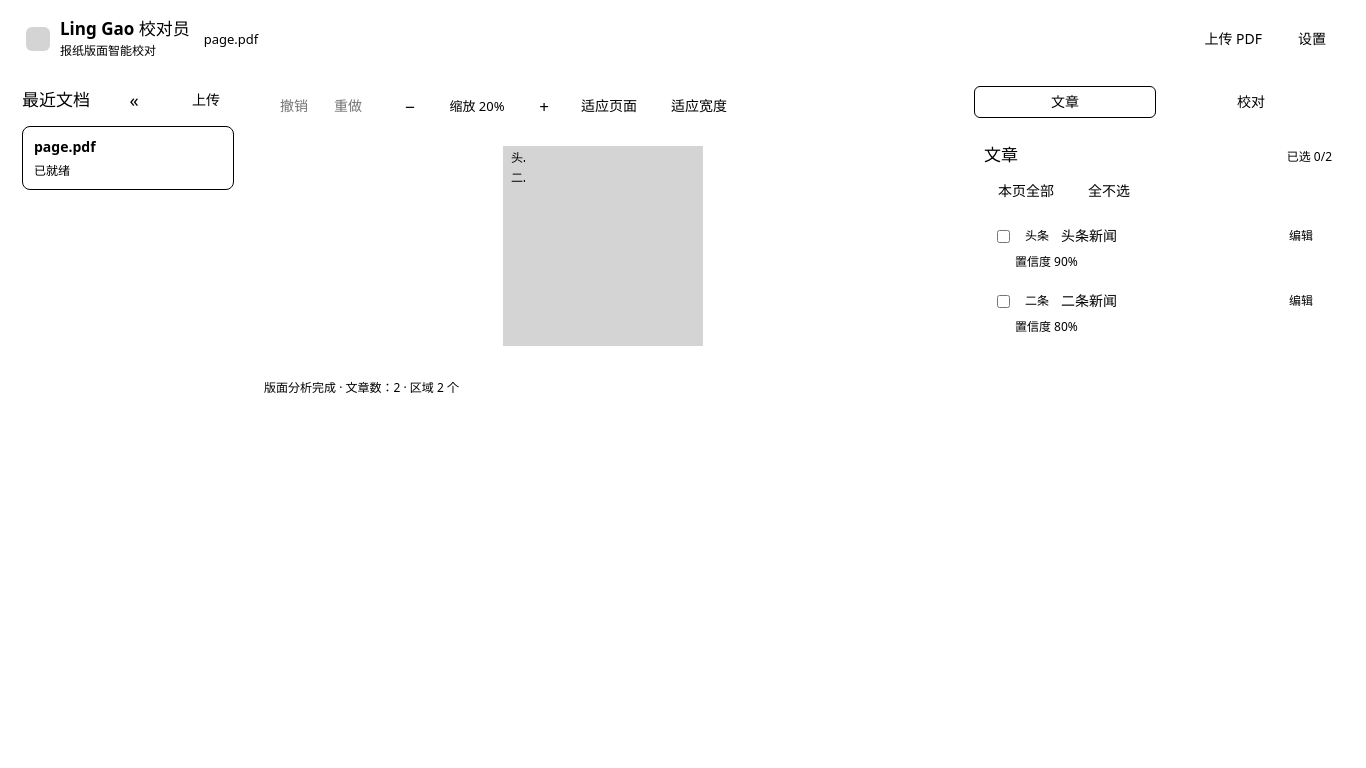
Test: App proofreading integration › polls job progress and renders the report when the job finishes
Earlier steps of the test are not shown.
Later steps or results of the test are not shown.
Step 1. Click the checkbox labelled "头条 头条新闻" → (1004, 236), box [997,230,1010,242]
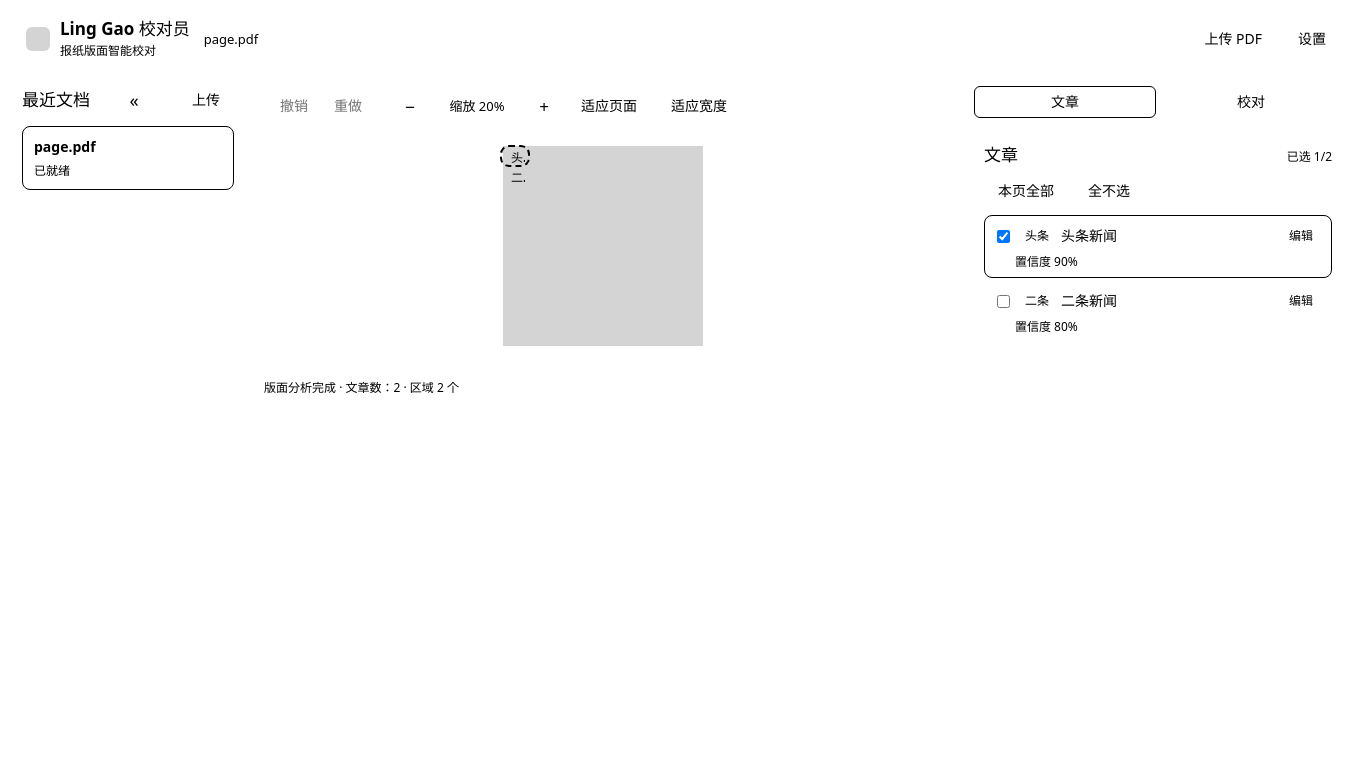
Step 2. Click the tab "校对" → (1251, 102), box [1160,86,1342,118]
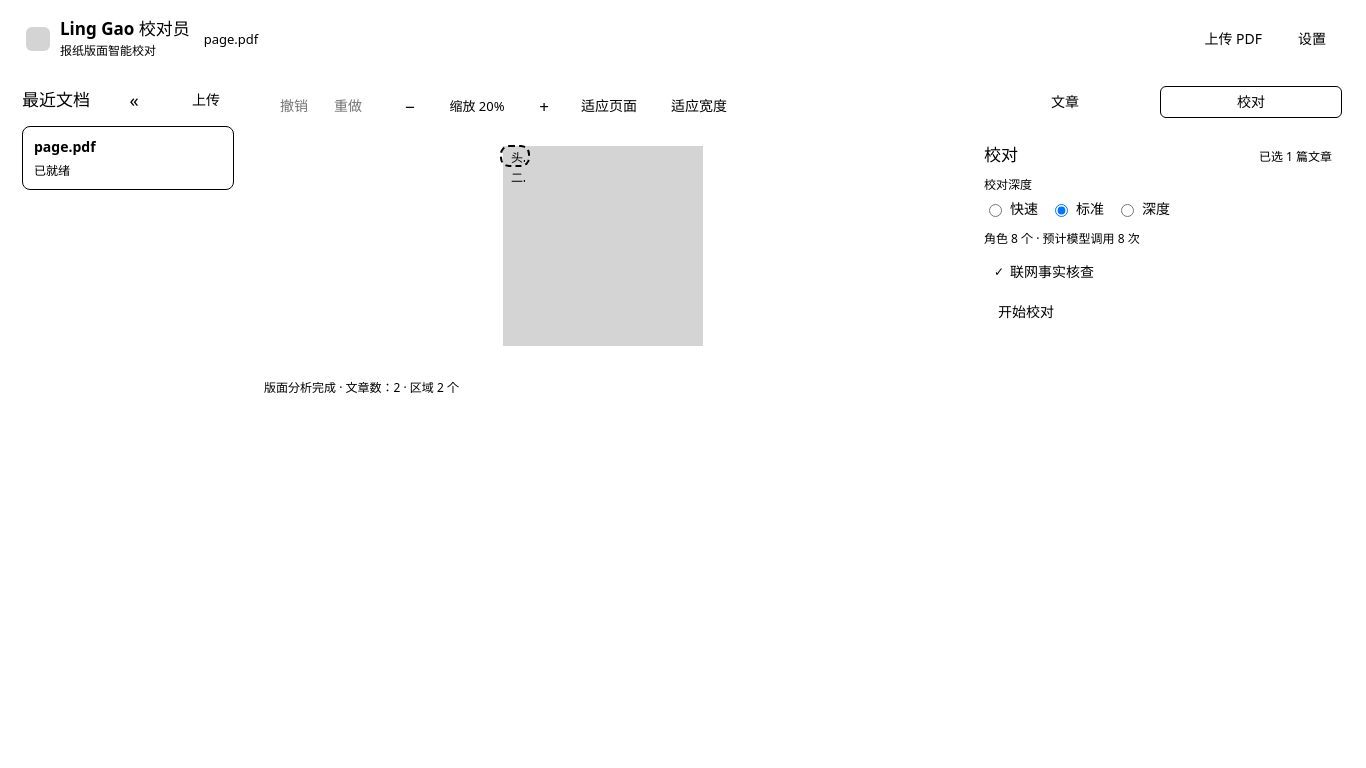
Step 3. Click the button "开始校对" → (1026, 312), box [984,296,1068,328]
(page scrolled)
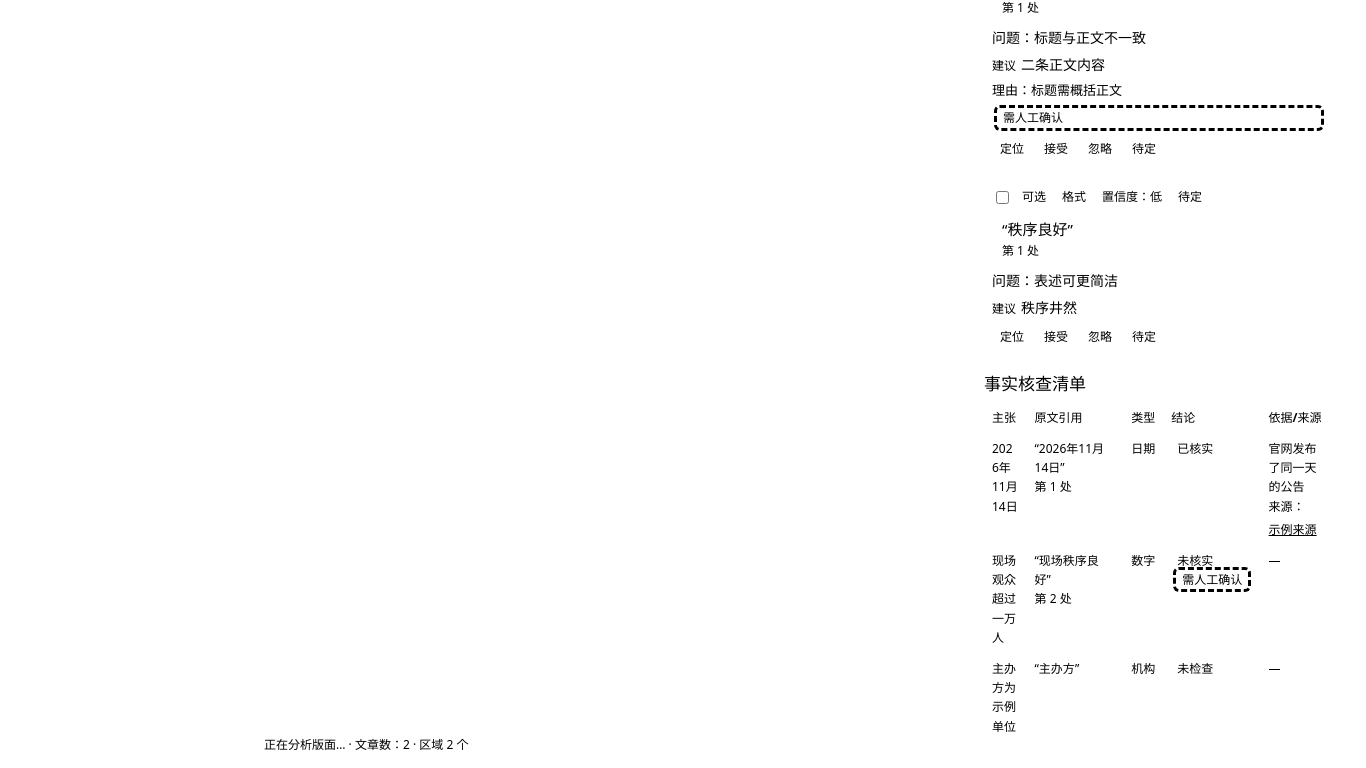
Now the heading "事实核查清单" is shown, box [984,373,1086,396]
